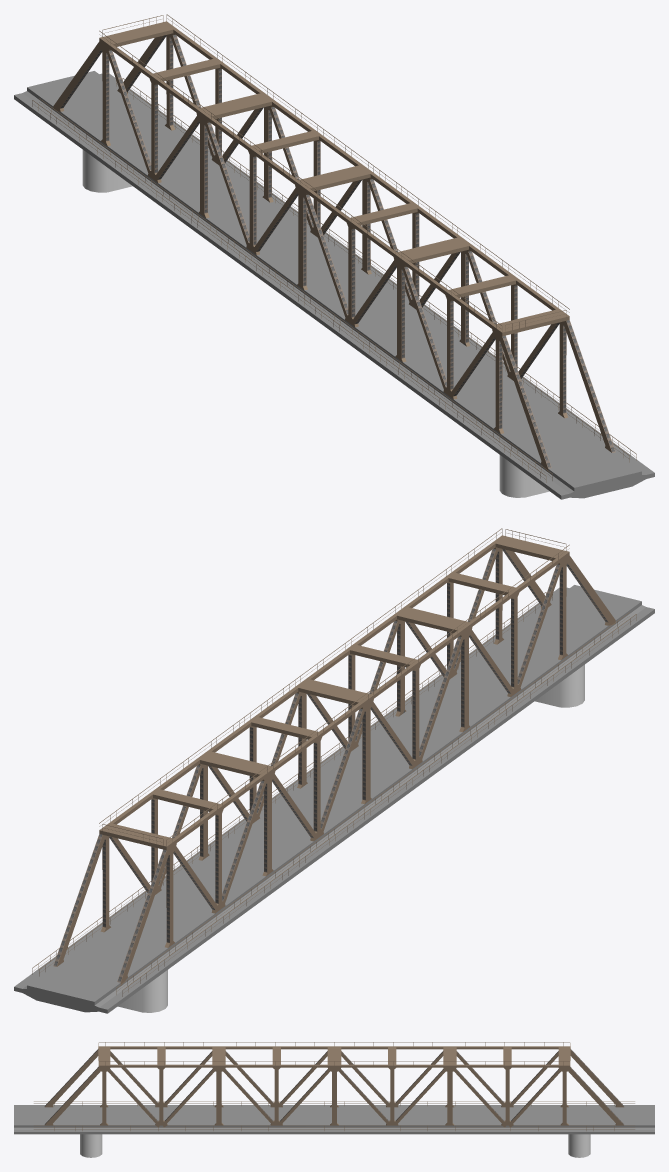
File: Bridge.FBX
The picture shows the model from 3 angles, top to bottom: view 1: azimuth 30°, elevation 25°; view 2: azimuth 150°, elevation 25°; view 3: azimuth 270°, elevation 25°; orthographic projection. The views are drawn at different scales.
Parts seen in each view (by area): view 1: Box001, Railing001, Railing008, Cylinder002, Cylinder001, Railing003, Railing004, Railing007, Railing002; view 2: Box001, Railing001, Railing008, Cylinder001, Cylinder002, Railing004, Railing003, Railing007, Railing002; view 3: Box001, Railing002, Railing007, Railing004, Railing003, Cylinder001, Cylinder002, Railing008, Railing001.
Part boxes in pixels (box(x1,y1,x2,y2)): Box001: box(14, 21, 654, 499); Railing001: box(32, 100, 546, 482); Railing008: box(39, 98, 552, 480); Cylinder002: box(82, 150, 132, 192); Cylinder001: box(499, 455, 549, 497); Railing003: box(99, 30, 502, 332); Railing004: box(166, 14, 569, 312); Railing007: box(116, 80, 629, 462); Railing002: box(122, 78, 636, 460); Box001: box(14, 535, 654, 1013); Railing001: box(122, 614, 636, 996); Railing008: box(116, 612, 629, 994); Cylinder001: box(535, 664, 584, 707); Cylinder002: box(118, 970, 167, 1012); Railing004: box(99, 528, 502, 826); Railing003: box(166, 544, 569, 846); Railing007: box(39, 594, 552, 976); Railing002: box(32, 592, 546, 974); Box001: box(14, 1046, 654, 1134); Railing002: box(34, 1127, 634, 1130); Railing007: box(34, 1125, 634, 1126); Railing004: box(99, 1061, 569, 1065); Railing003: box(99, 1042, 569, 1045); Cylinder001: box(80, 1134, 102, 1157); Cylinder002: box(568, 1134, 590, 1157); Railing008: box(34, 1103, 634, 1105); Railing001: box(34, 1101, 634, 1102).
Bounding box in the file's own units: 1110 × 1834 × 11229.
